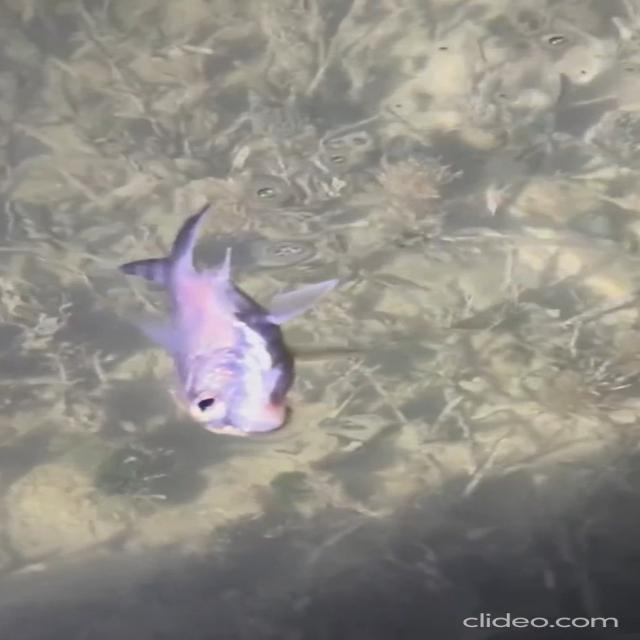fish: (118, 200, 322, 441)
